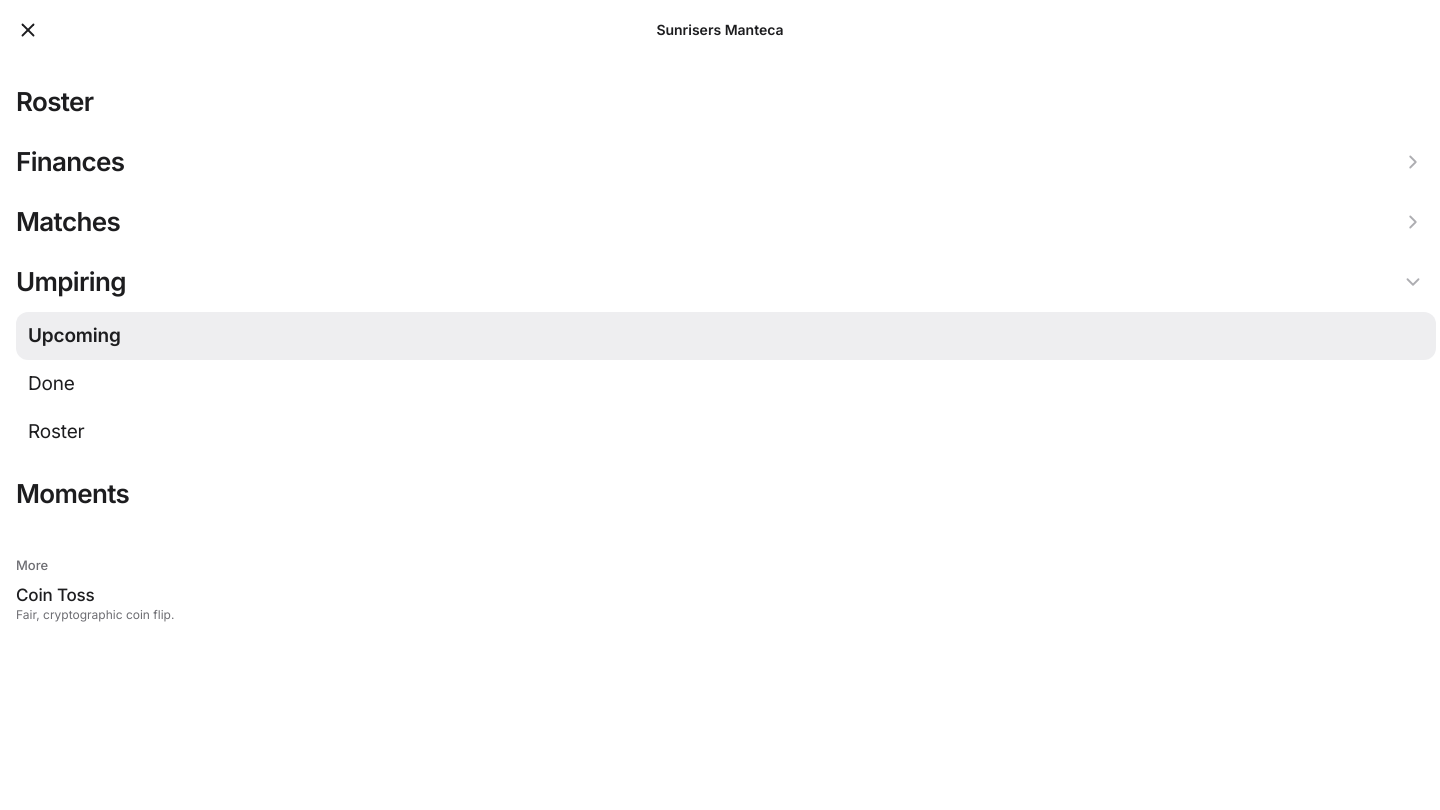
HamburgerMenu — the only navigation › tapping a section expands it in place and collapses the previous one
tap Finances
Step 1. Click the button "Finances" → (70, 162), box x1=4 y1=132 x2=1436 y2=192
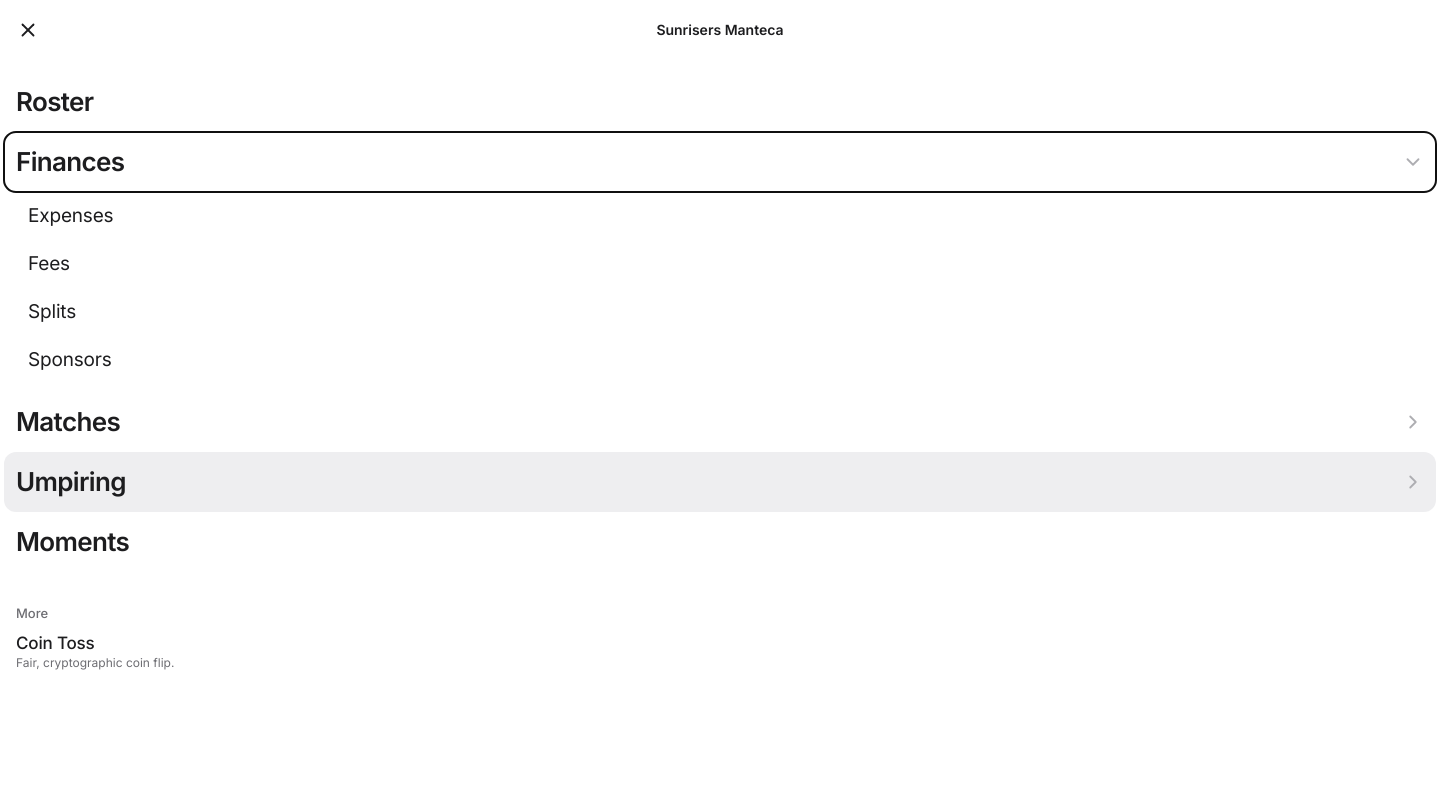
Now the button "Finances" is expanded, box x1=4 y1=132 x2=1436 y2=192
Now the button "Umpiring" is collapsed, box x1=4 y1=452 x2=1436 y2=512
Now the links read "Expenses", "Fees", "Splits", "Sponsors", in this order, box x1=28 y1=204 x2=114 y2=227; x1=28 y1=252 x2=70 y2=275; x1=28 y1=300 x2=76 y2=323; x1=28 y1=348 x2=112 y2=371
